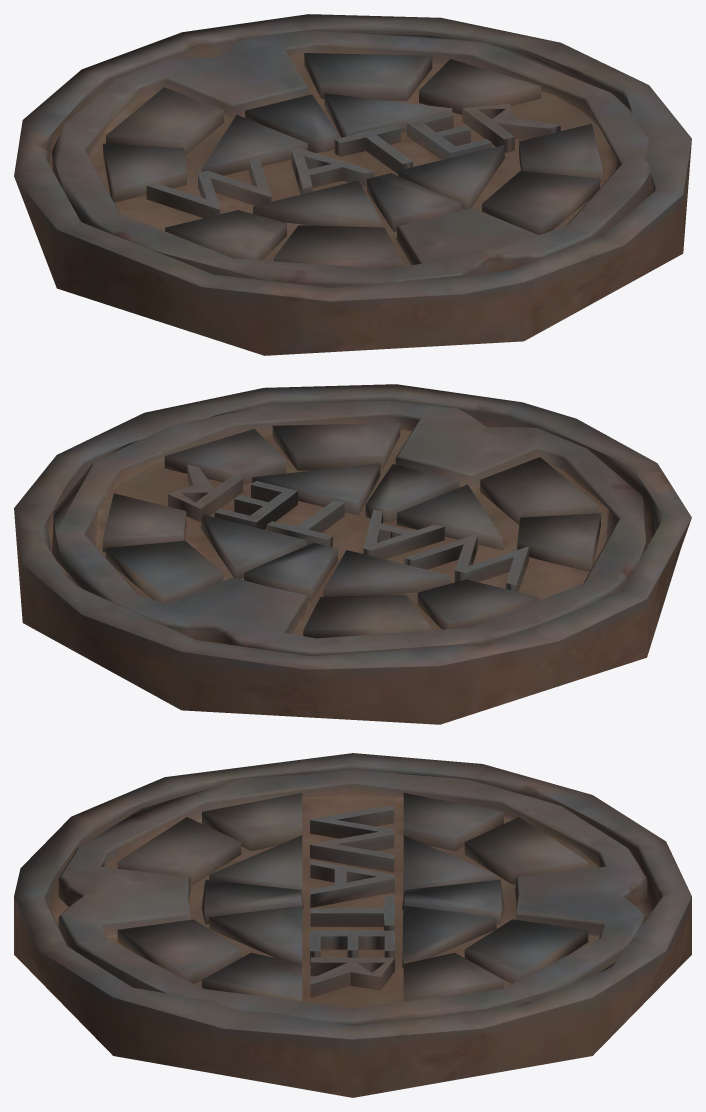
The model's file is water_manhole_cover.glb.
The picture shows the model from 3 angles, top to bottom: view 1: azimuth 30°, elevation 25°; view 2: azimuth 150°, elevation 25°; view 3: azimuth 270°, elevation 25°; orthographic projection.
Parts seen in each view (by area): view 1: water_manhole_cover, water_manhole_cover_frame; view 2: water_manhole_cover, water_manhole_cover_frame; view 3: water_manhole_cover, water_manhole_cover_frame.
Boxes of the visible parts, <box> form: water_manhole_cover: <box>52,31,651,287</box>; water_manhole_cover_frame: <box>14,14,691,355</box>; water_manhole_cover: <box>52,401,651,656</box>; water_manhole_cover_frame: <box>14,384,691,724</box>; water_manhole_cover: <box>58,769,647,1025</box>; water_manhole_cover_frame: <box>14,753,691,1097</box>.
Bounding box in the file's own units: 0.6908 × 0.0676 × 0.6908.
Materials: 1 (1 with a texture image).
